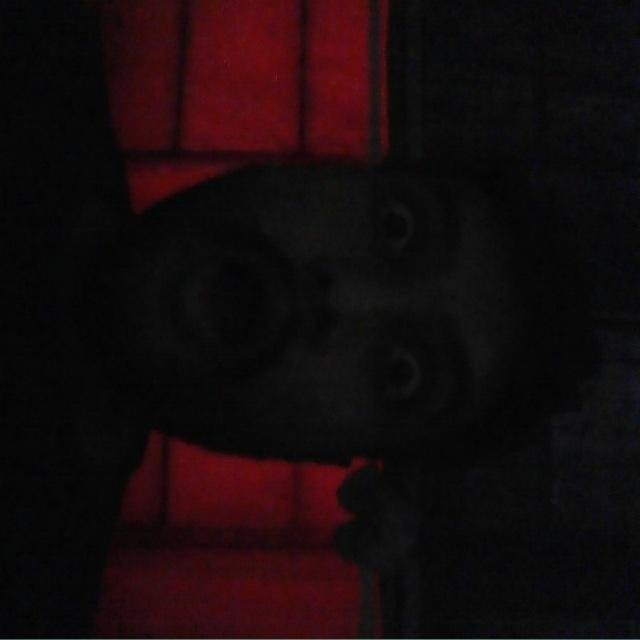Surprised: (117, 105, 554, 493)
